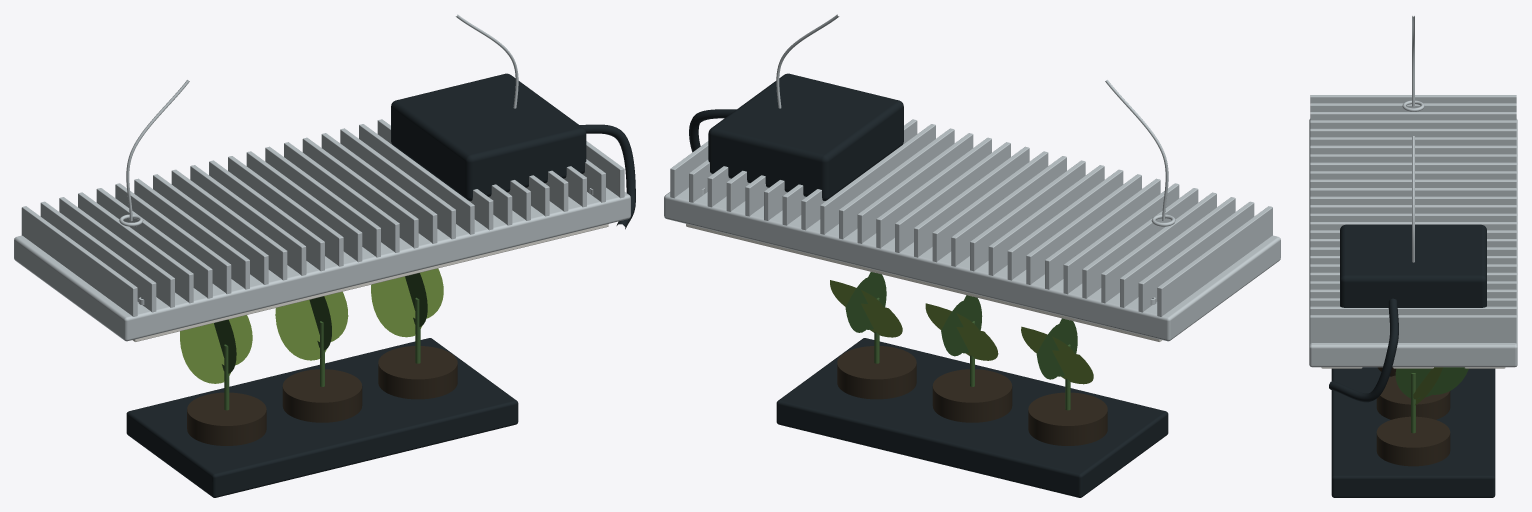
The model's file is growlight.glb.
3 views of the same model, side by side, from view 1: azimuth 30°, elevation 25°; view 2: azimuth 150°, elevation 25°; view 3: azimuth 270°, elevation 25° (orthographic). The views are drawn at different scales.
Visible parts, largest first — view 1: LED fixture, Seedling tray; view 2: LED fixture, Seedling tray; view 3: LED fixture, Seedling tray.
Part boxes in pixels (<box>): LED fixture: <box>14,14,635,341</box>; Seedling tray: <box>126,268,518,497</box>; LED fixture: <box>664,14,1280,341</box>; Seedling tray: <box>776,272,1168,497</box>; LED fixture: <box>1309,16,1517,402</box>; Seedling tray: <box>1331,367,1495,497</box>.
Size of the model in its own units: 2.88 by 1.91 by 1.02.
